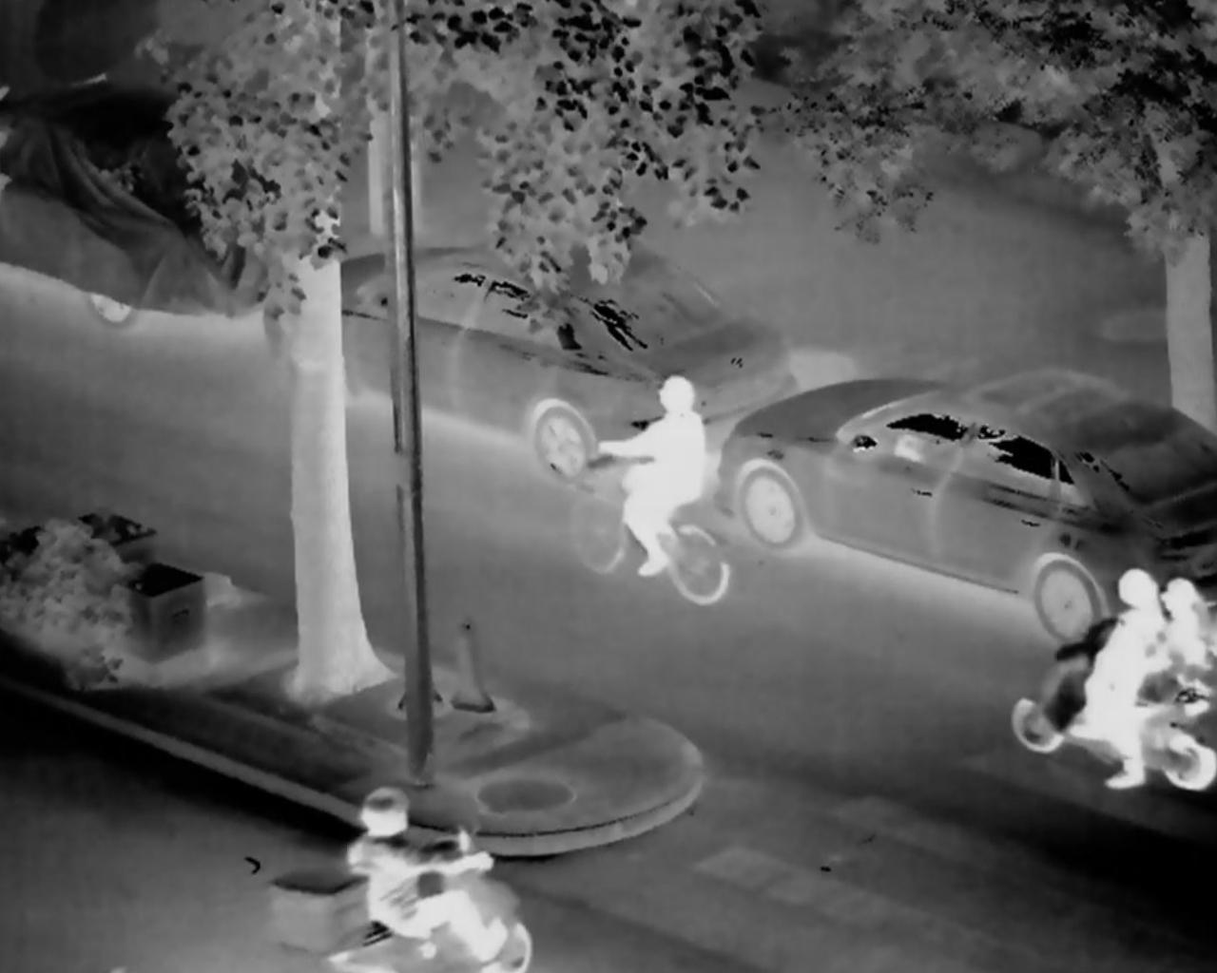person: (306, 773, 528, 973), (1052, 556, 1160, 806), (589, 372, 719, 575), (1147, 573, 1217, 730)
